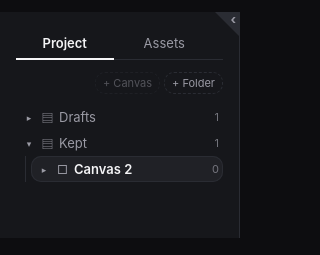
Test: the canvas tree › stops offering a board where a deployment allows no more
The image size is (320, 255).
Check: the button with aria-label "New canvas" is disabled, box [95,72,160,94]
Step 1. Right-click the button "Drafts" → (135, 117), box [57,105,212,129]
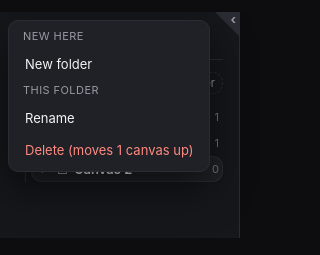
Check: the menu item "New folder" is shown, box [15,49,204,79]
